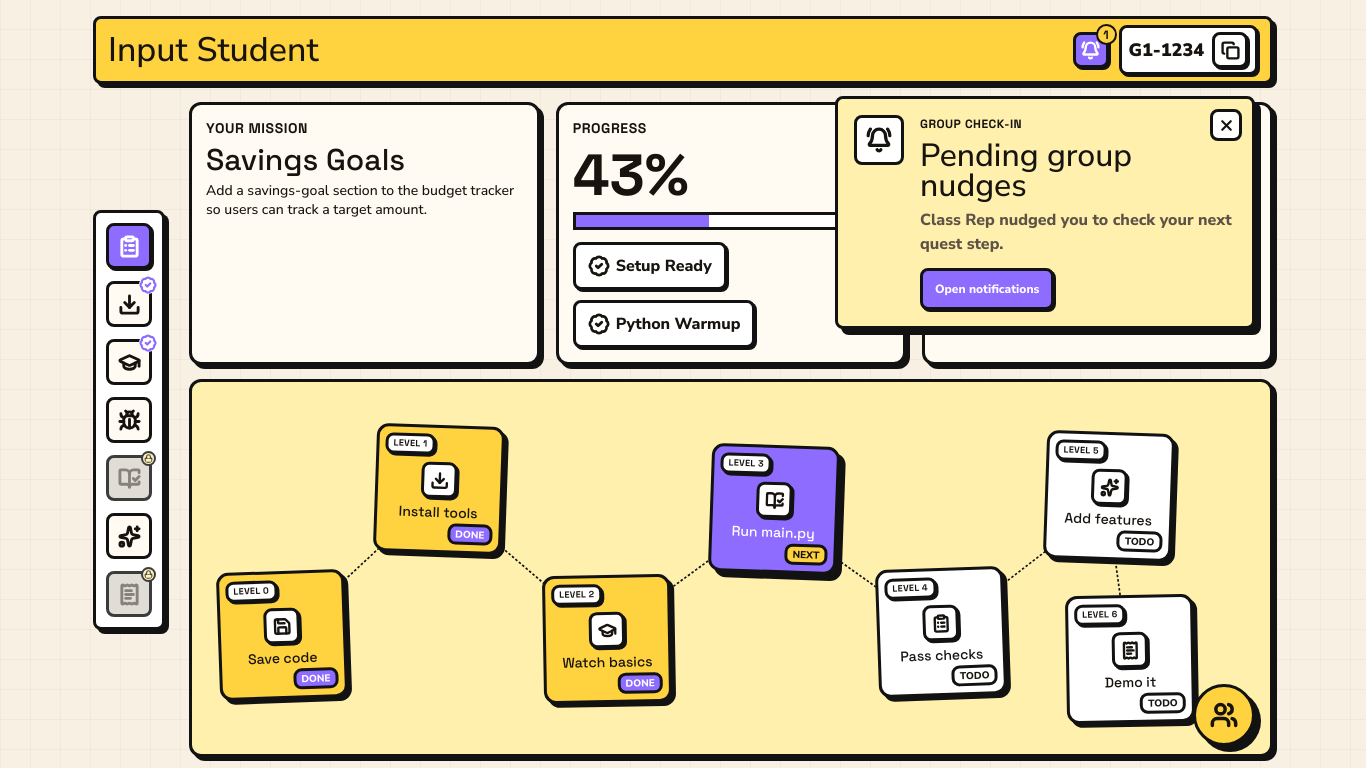
Scenario: Budget Tracker Quest portal › shows pending group nudges in a notification center and popup on return
Check: the dialog "Pending group nudges" is shown, box [835, 96, 1255, 329]
Check: the text "Class Rep nudged you to check your next quest step." is shown, box [920, 208, 1236, 256]
Click the button "Open notifications" at (987, 289), box [920, 268, 1054, 310]
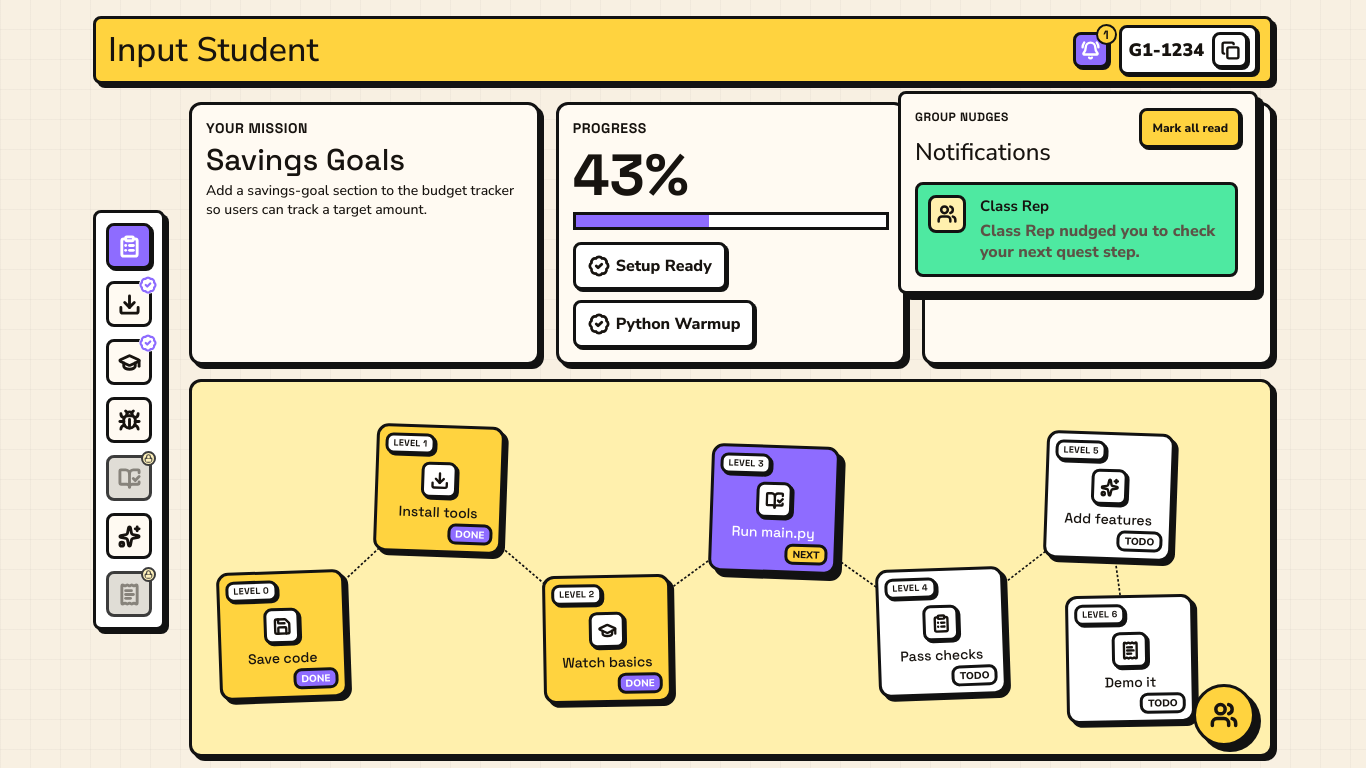
Check: the element "Notifications" is shown, box [898, 91, 1258, 294]
Check: the text "Class Rep" is shown, box [980, 196, 1049, 216]
Click the button "Mark all read" at (1190, 128), box [1139, 108, 1241, 148]
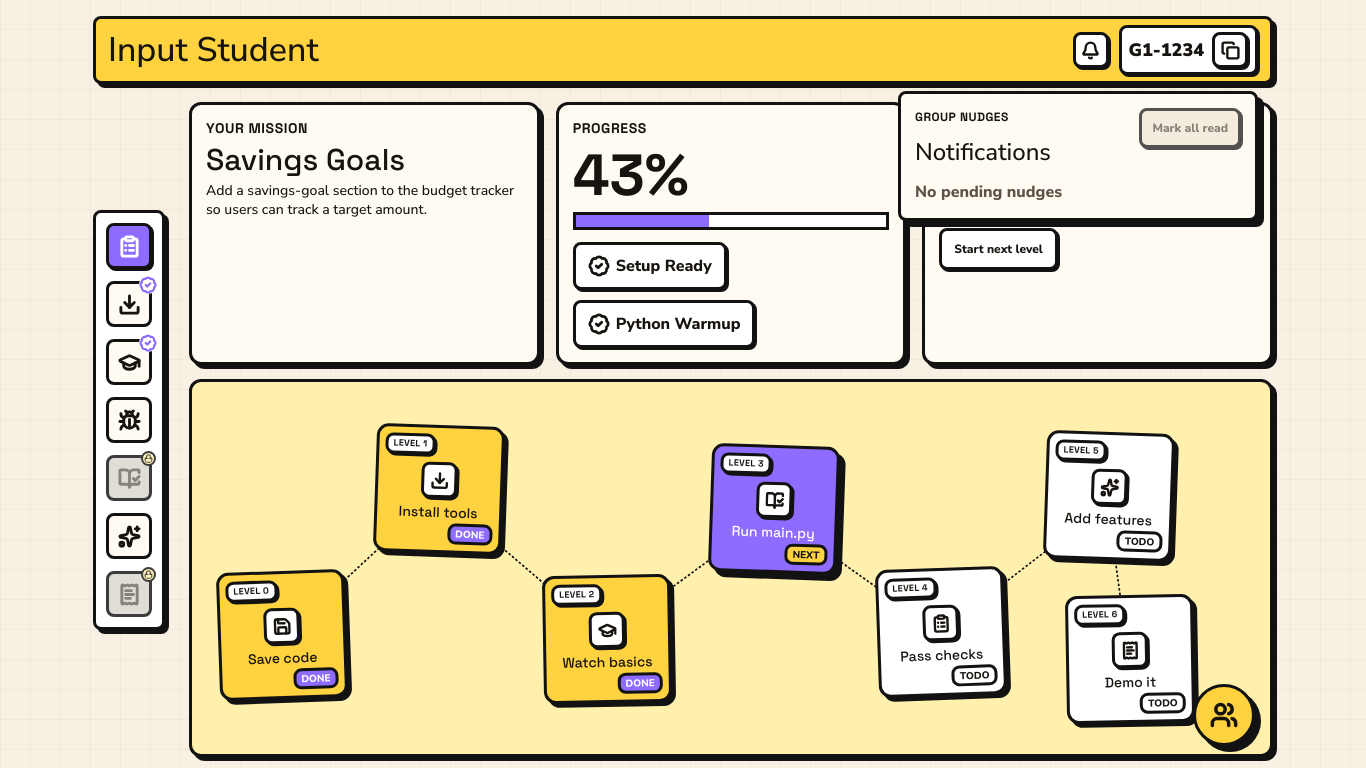
Check: the text "No pending nudges" is shown, box [915, 181, 1062, 203]
